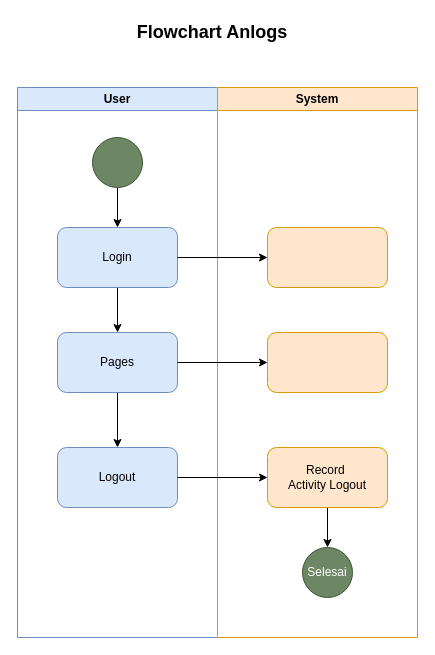
Some shapes in this 435 by 655 pixel diagram are drawn without their labels. The shapes that lost their labels are listed below. From the top down, each one's centre as x and y in pixels, then its label:
At (117,162): "Mulai".
At (327,257): "Record Activity Login & Visit".
At (327,362): "Record Activity Visit".
